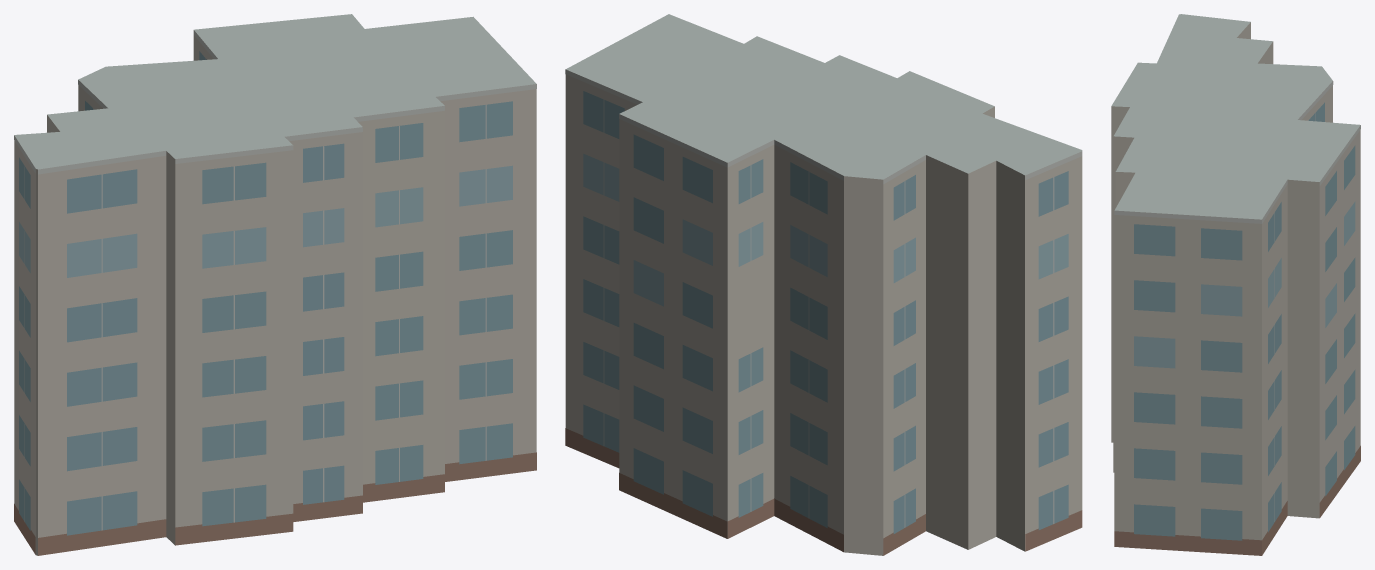
The model's file is survey-upis-32595432.glb.
3 views of the same model, side by side, from view 1: azimuth 30°, elevation 25°; view 2: azimuth 150°, elevation 25°; view 3: azimuth 270°, elevation 25° (orthographic). The views are drawn at different scales.
Visible parts, largest first — view 1: survey-upis-32595432.tmp; view 2: survey-upis-32595432.tmp; view 3: survey-upis-32595432.tmp.
Part boxes in pixels (x1=…): survey-upis-32595432.tmp: x1=14, y1=14, x2=536, y2=555; survey-upis-32595432.tmp: x1=565, y1=14, x2=1082, y2=555; survey-upis-32595432.tmp: x1=1111, y1=14, x2=1360, y2=555.
Size of the model in its own units: 24.79 by 18.9 by 12.72.
